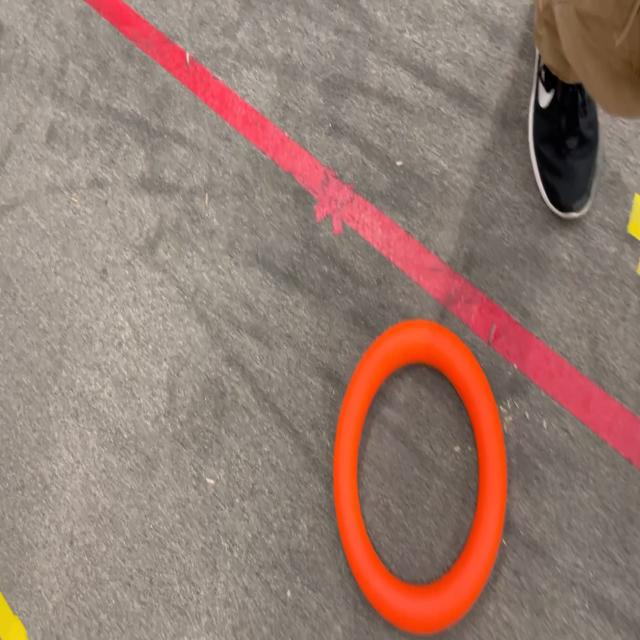note: (333, 320, 507, 635)
